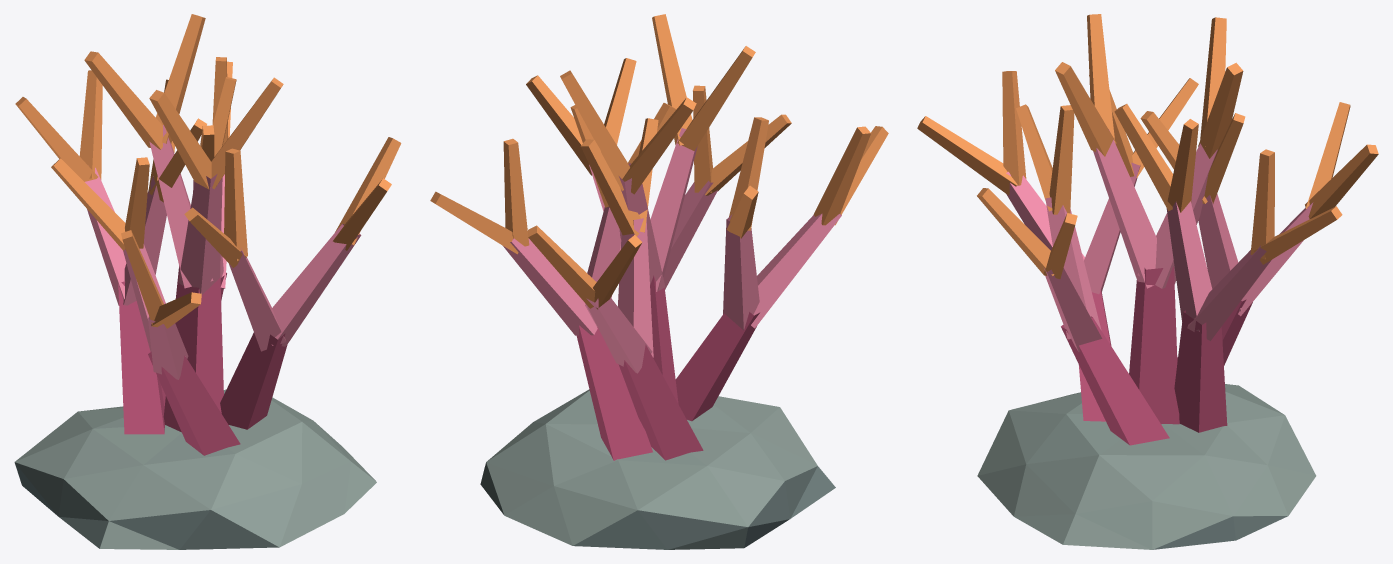
The model's file is coral_a.glb.
The picture shows the model from 3 angles, left to right: view 1: azimuth 30°, elevation 25°; view 2: azimuth 150°, elevation 25°; view 3: azimuth 270°, elevation 25°; orthographic projection.
Parts seen in each view (by area): view 1: Body; view 2: Body; view 3: Body.
Part boxes in pixels (x1,y1,x2,y2): Body: (14,14,401,549); Body: (430,14,888,549); Body: (917,14,1378,549).
Bounding box in the file's own units: 1.25 × 1.66 × 1.61.
